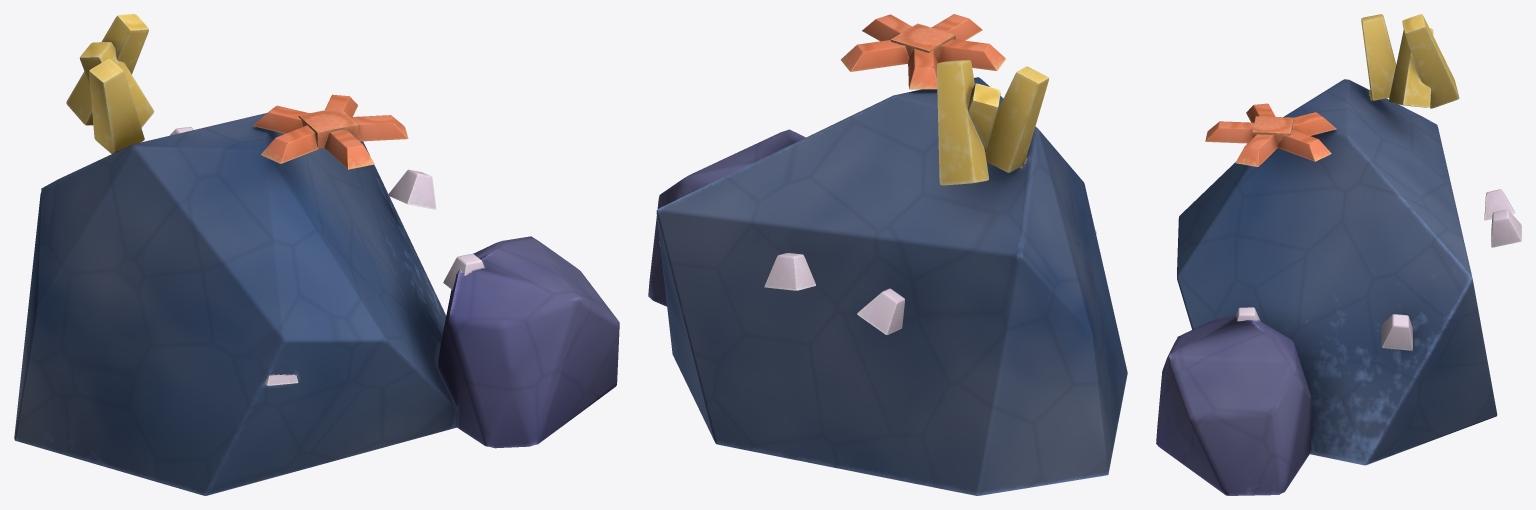
File: Abysses_Rocher.fbx
3 views of the same model, side by side, from view 1: azimuth 30°, elevation 25°; view 2: azimuth 150°, elevation 25°; view 3: azimuth 270°, elevation 25° (orthographic). The views are drawn at different scales.
Parts seen in each view (by area): view 1: Abysses_Rocher; view 2: Abysses_Rocher; view 3: Abysses_Rocher.
Part boxes in pixels (x1,y1,x2,y2): Abysses_Rocher: (14,14,619,495); Abysses_Rocher: (648,14,1127,495); Abysses_Rocher: (1156,14,1521,495).
Size of the model in its own units: 932 by 669 by 685.
1 material, 1 textured.
